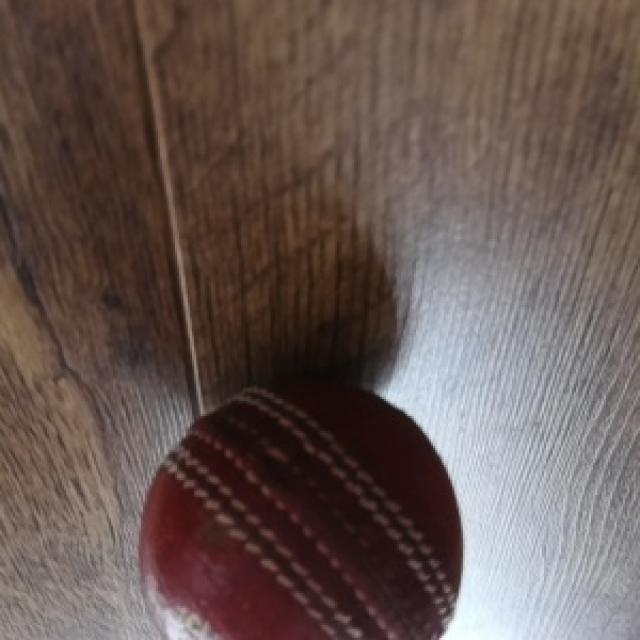ball: (139, 380, 465, 640)
